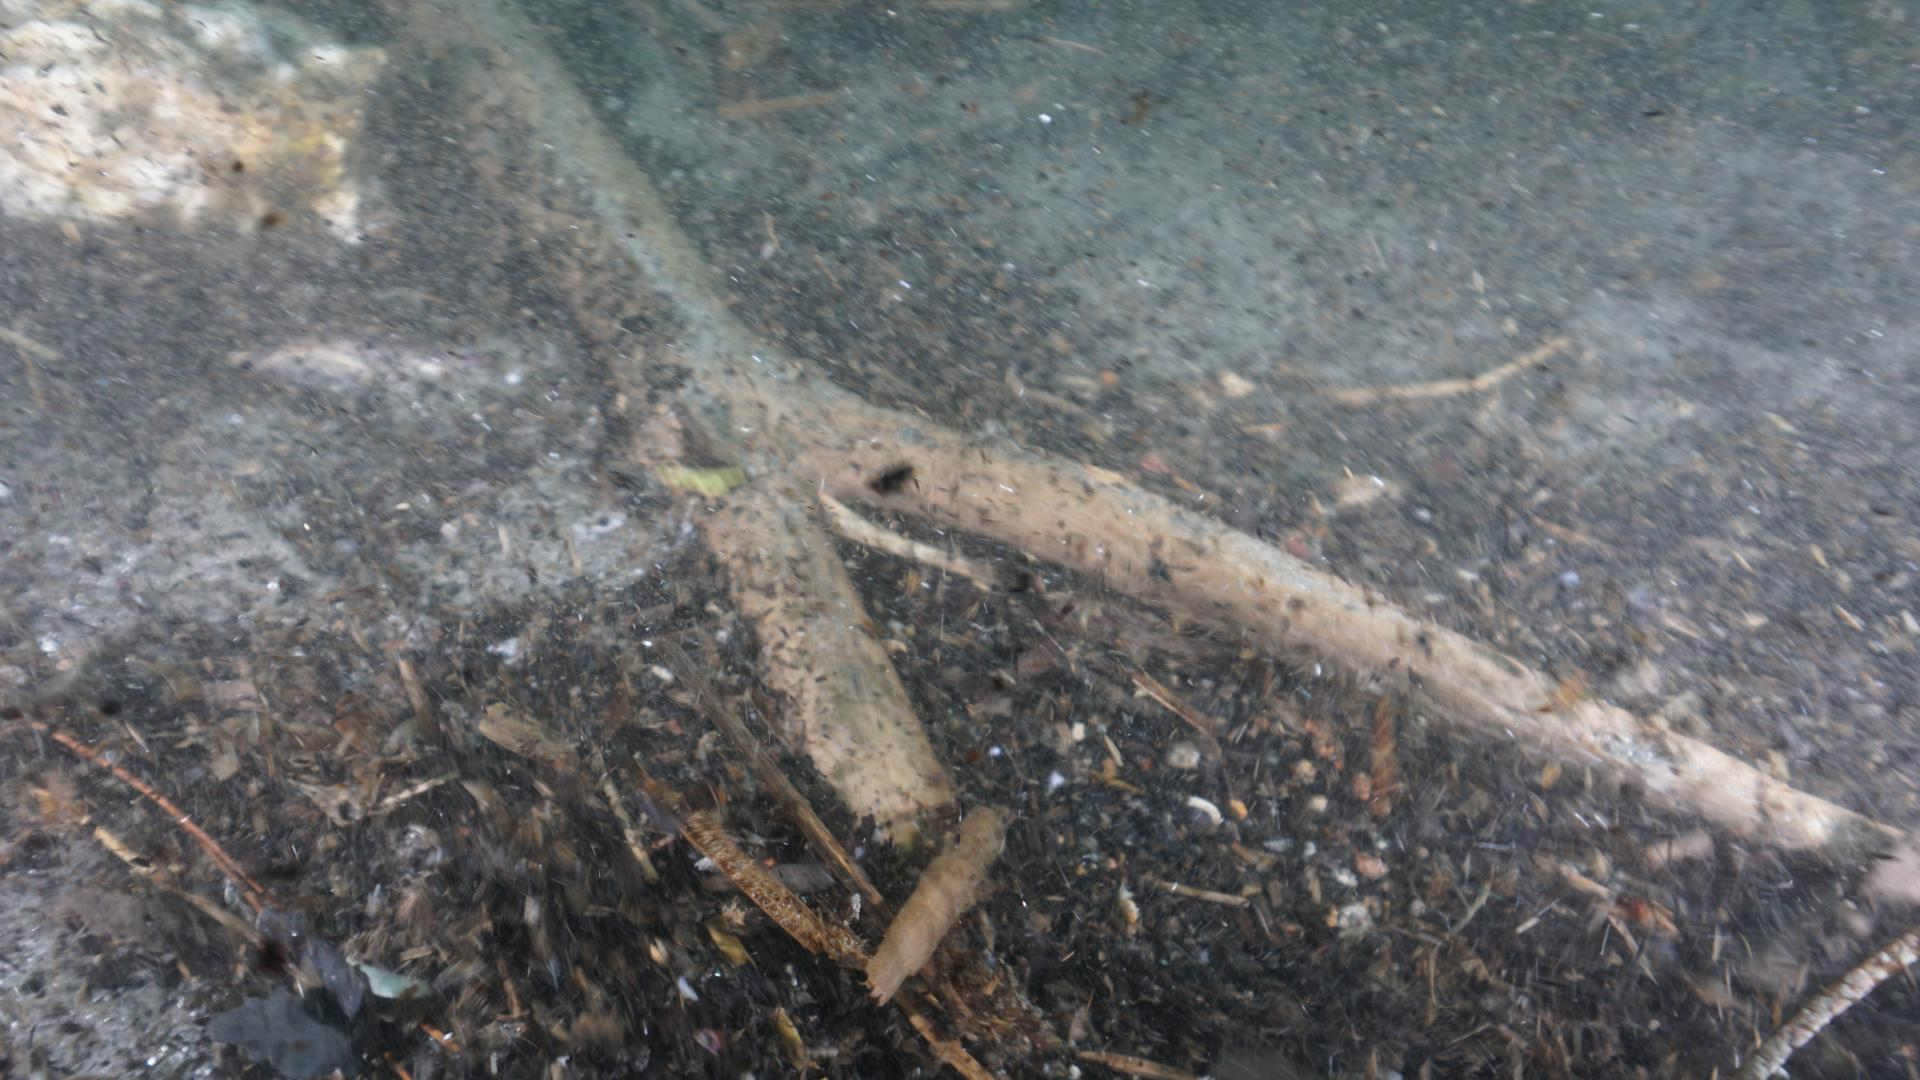wood: (375, 5, 1902, 893)
